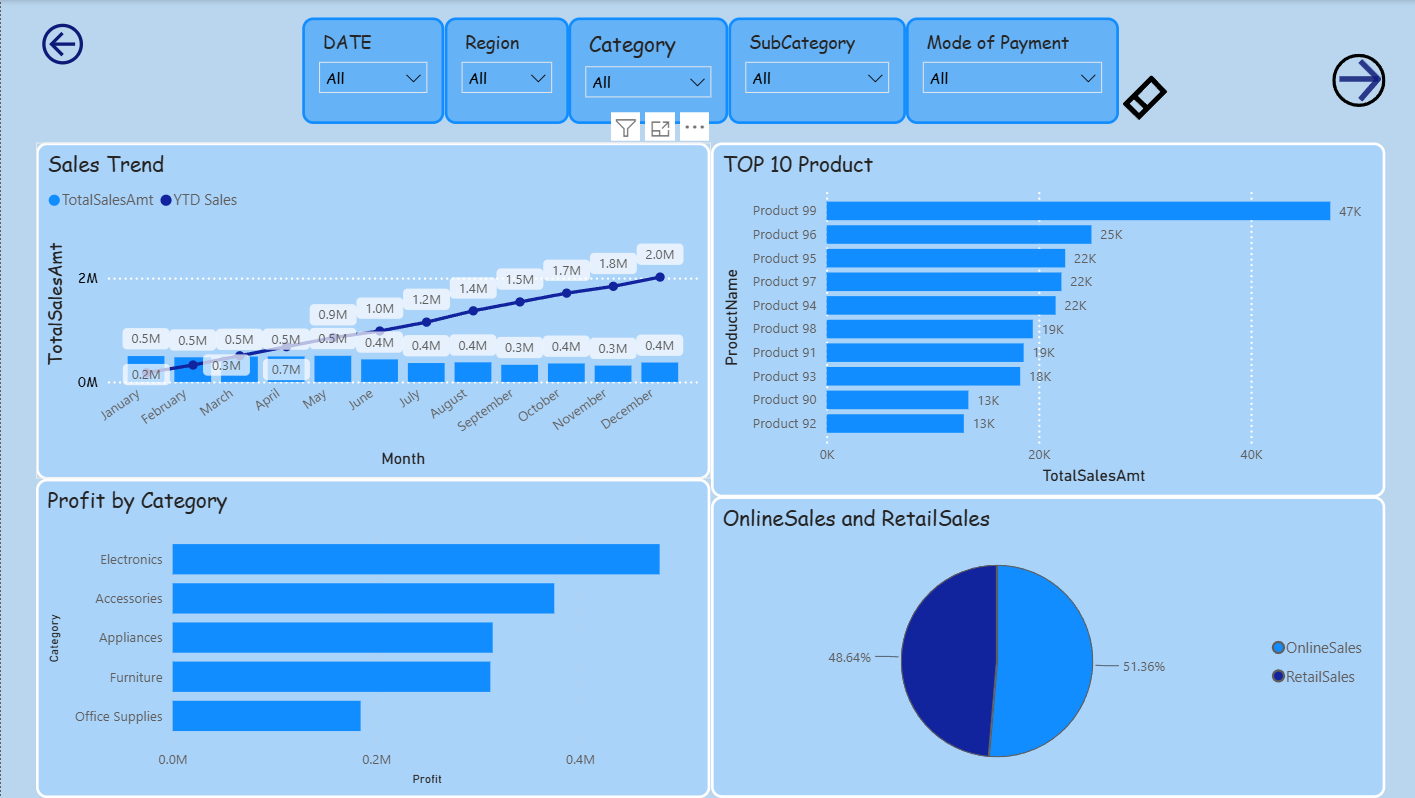

This screenshot's page, from the dashboard's own definition file:
{"tool":"powerbi","page":{"name":"Sales Analysis","canvas":[1280,720],"ordinal":1},"visuals":[{"type":"group","id":"g1","title":"Group 1","box":[272,16,736,96],"z":0},{"type":"slicer","fields":{"Values":["Calender.Date.Variation.Date Hierarchy.Year","Calender.Date.Variation.Date Hierarchy.Quarter","Calender.Date.Variation.Date Hierarchy.Month","Calender.Date.Variation.Date Hierarchy.Day"]},"box":[272,16,128,96],"z":0,"group":"g1"},{"type":"slicer","fields":{"Values":["DimProduct.Region"]},"box":[400,16,112,96],"z":1000,"group":"g1"},{"type":"actionButton","box":[1008,64,48,48],"z":1000},{"type":"actionButton","box":[32,16,48,48],"z":2000},{"type":"slicer","fields":{"Values":["DimProduct.Category"]},"box":[512,16,144,96],"z":2000,"group":"g1"},{"type":"slicer","fields":{"Values":["DimProduct.SubCategory"]},"box":[656,16,160,96],"z":3000,"group":"g1"},{"type":"lineStackedColumnComboChart","title":"Sales Trend","fields":{"Category":["Calender.Date.Variation.Date Hierarchy.Month"],"Y":["DimProduct.TotalSalesAmt"],"Y2":["Calender.YTD Sales"]},"box":[32,128,608,304],"z":3000},{"type":"slicer","fields":{"Values":["FactSales.Channel"]},"box":[816,16,192,96],"z":4000,"group":"g1"},{"type":"clusteredBarChart","title":"TOP 10 Product","fields":{"Y":["DimProduct.TotalSalesAmt"],"Category":["DimProduct.ProductName"]},"box":[640,128,608,320],"z":4000},{"type":"clusteredBarChart","fields":{"Y":["FactSales.Profit"],"Category":["DimProduct.Category"]},"box":[32,432,608,288],"z":5000},{"type":"pieChart","fields":{"Y":["DimProduct.OnlineSales","FactSales.RetailSales"]},"box":[640,448,608,272],"z":6000},{"type":"actionButton","box":[1200,48,48,48],"z":7000}]}

Visuals, with their boxes in screenshot pixels (x1, y1, x2, y2), scaled from the page's 1280x720 canvas onto the 1415x798 screenshot:
"Group 1" group: bbox(301, 18, 1114, 124)
slicer - Calender.Date.Variation.Date Hierarchy.Year x Calender.Date.Variation.Date Hierarchy.Quarter: bbox(301, 18, 442, 124)
slicer - DimProduct.Region: bbox(442, 18, 566, 124)
actionButton: bbox(1114, 71, 1167, 124)
actionButton: bbox(35, 18, 88, 71)
slicer - DimProduct.Category: bbox(566, 18, 725, 124)
slicer - DimProduct.SubCategory: bbox(725, 18, 902, 124)
"Sales Trend" lineStackedColumnComboChart: bbox(35, 142, 708, 479)
slicer - FactSales.Channel: bbox(902, 18, 1114, 124)
"TOP 10 Product" clusteredBarChart: bbox(708, 142, 1380, 497)
clusteredBarChart - FactSales.Profit x DimProduct.Category: bbox(35, 479, 708, 797)
pieChart - DimProduct.OnlineSales x FactSales.RetailSales: bbox(708, 497, 1380, 797)
actionButton: bbox(1327, 53, 1380, 106)
